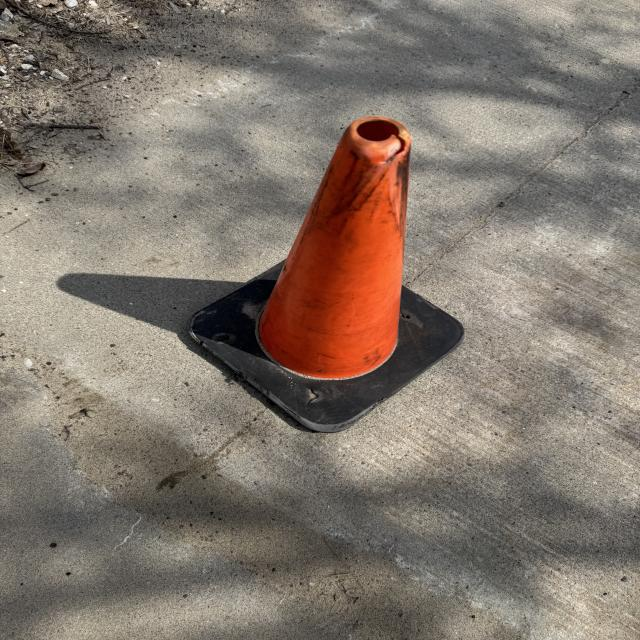Traffic Cone: (188, 119, 466, 434)
